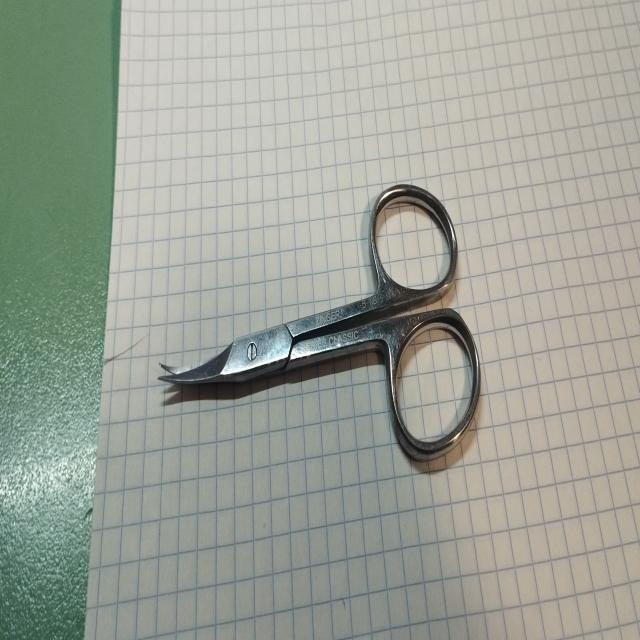tesoura: (155, 173, 485, 473)
